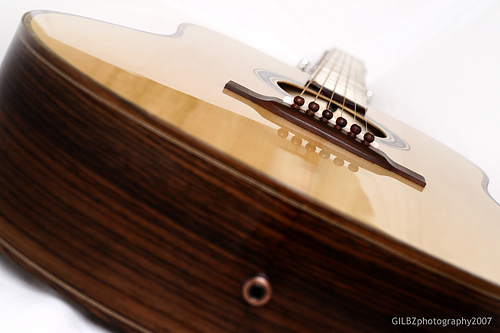guitar: (1, 4, 500, 333)
